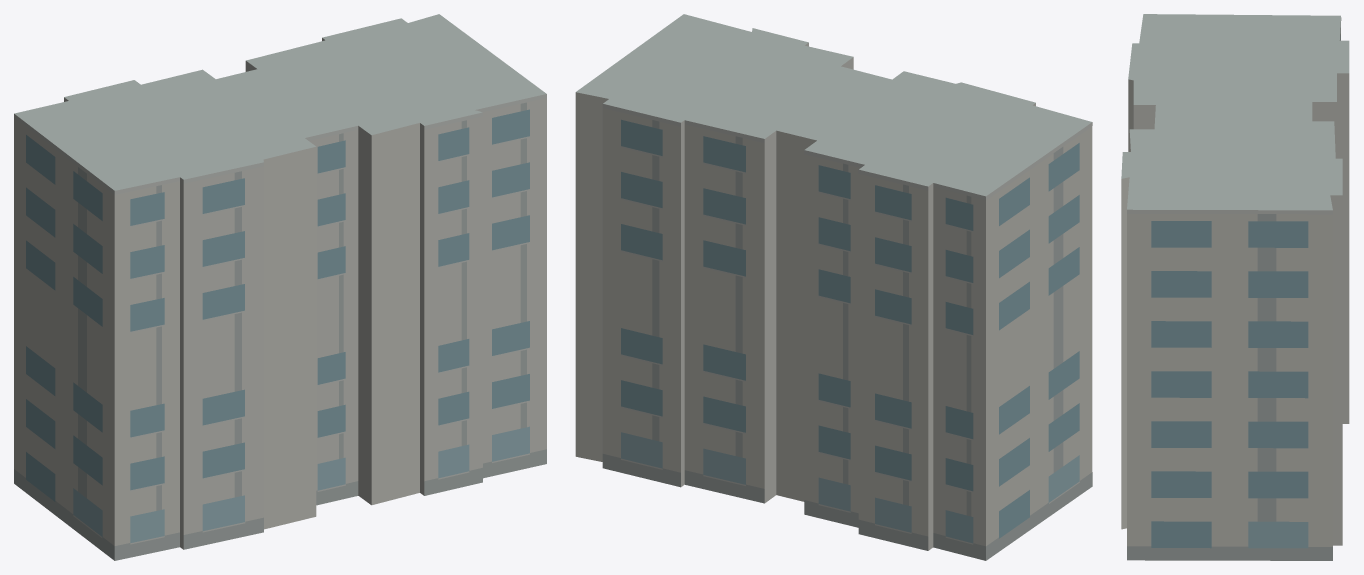
Rendered from survey-upis-32499341.glb.
The picture shows the model from 3 angles, left to right: view 1: azimuth 30°, elevation 25°; view 2: azimuth 150°, elevation 25°; view 3: azimuth 270°, elevation 25°; orthographic projection. The views are drawn at different scales.
Visible parts, largest first — view 1: survey-upis-32499341.tmp; view 2: survey-upis-32499341.tmp; view 3: survey-upis-32499341.tmp.
Part boxes in pixels (box(x1,y1,x2,y2)): survey-upis-32499341.tmp: box(14, 14, 546, 560); survey-upis-32499341.tmp: box(575, 14, 1092, 560); survey-upis-32499341.tmp: box(1121, 14, 1349, 560).
Bounding box in the file's own units: 26.43 × 22 × 12.99.
